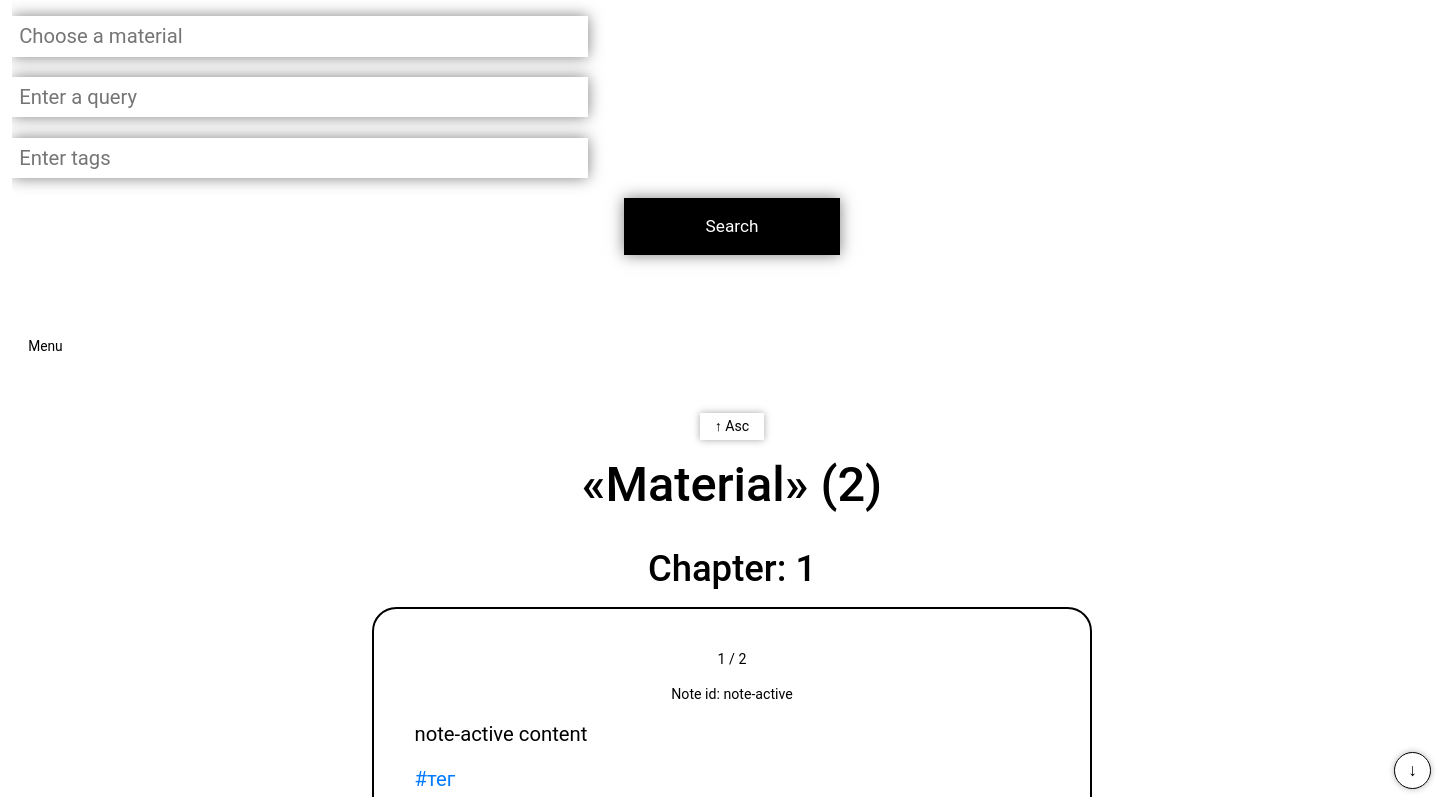
Test: SearchNotesPage query autocompletion › drops the suggestions and the error when the input is cleared
Type "al" into the field with placeholder "Enter a query" at (300,97), box left=12, top=77, right=588, bottom=117
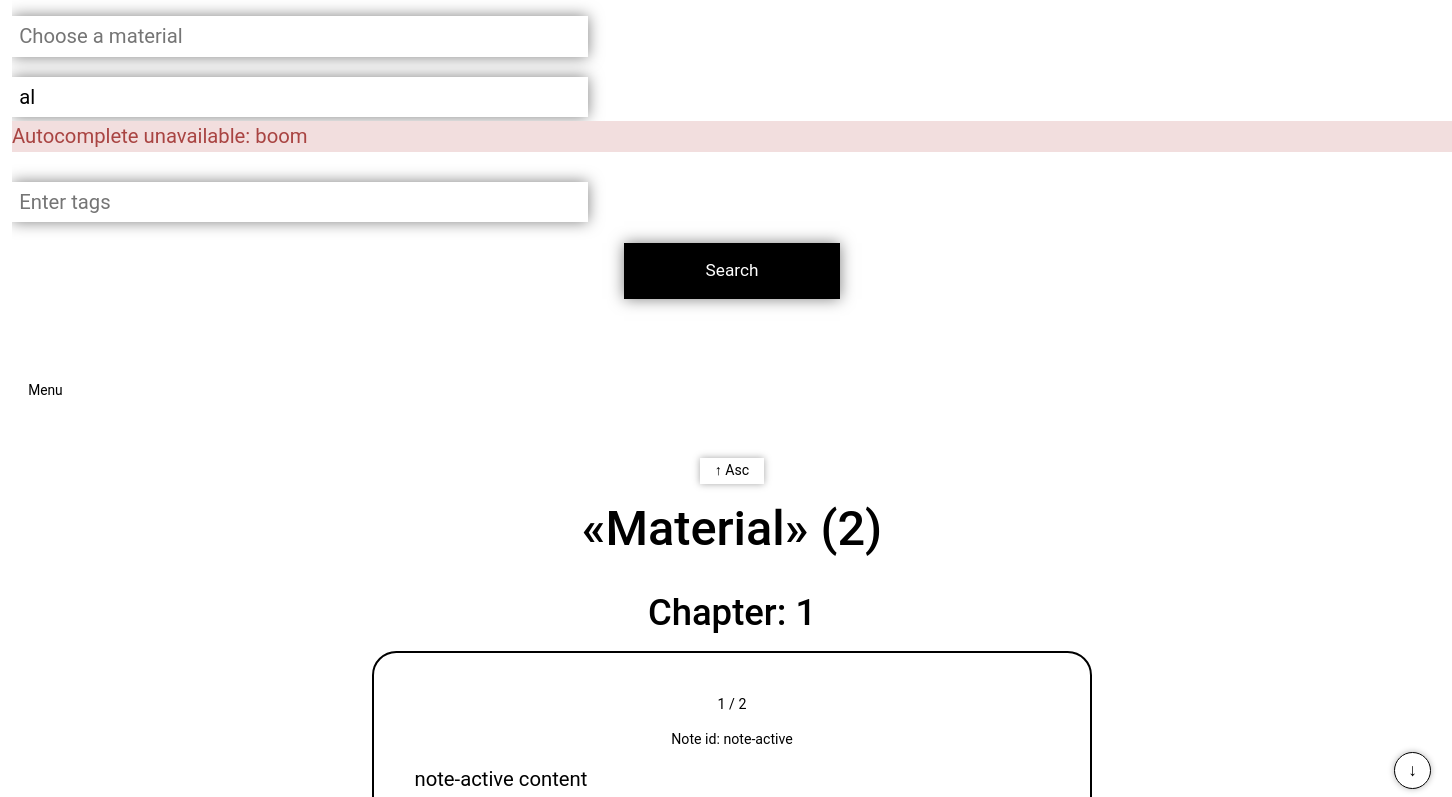
Check: the message shows "boom", box left=255, top=124, right=308, bottom=148
Clear the field with placeholder "Enter a query" at (300,97), box left=12, top=77, right=588, bottom=117
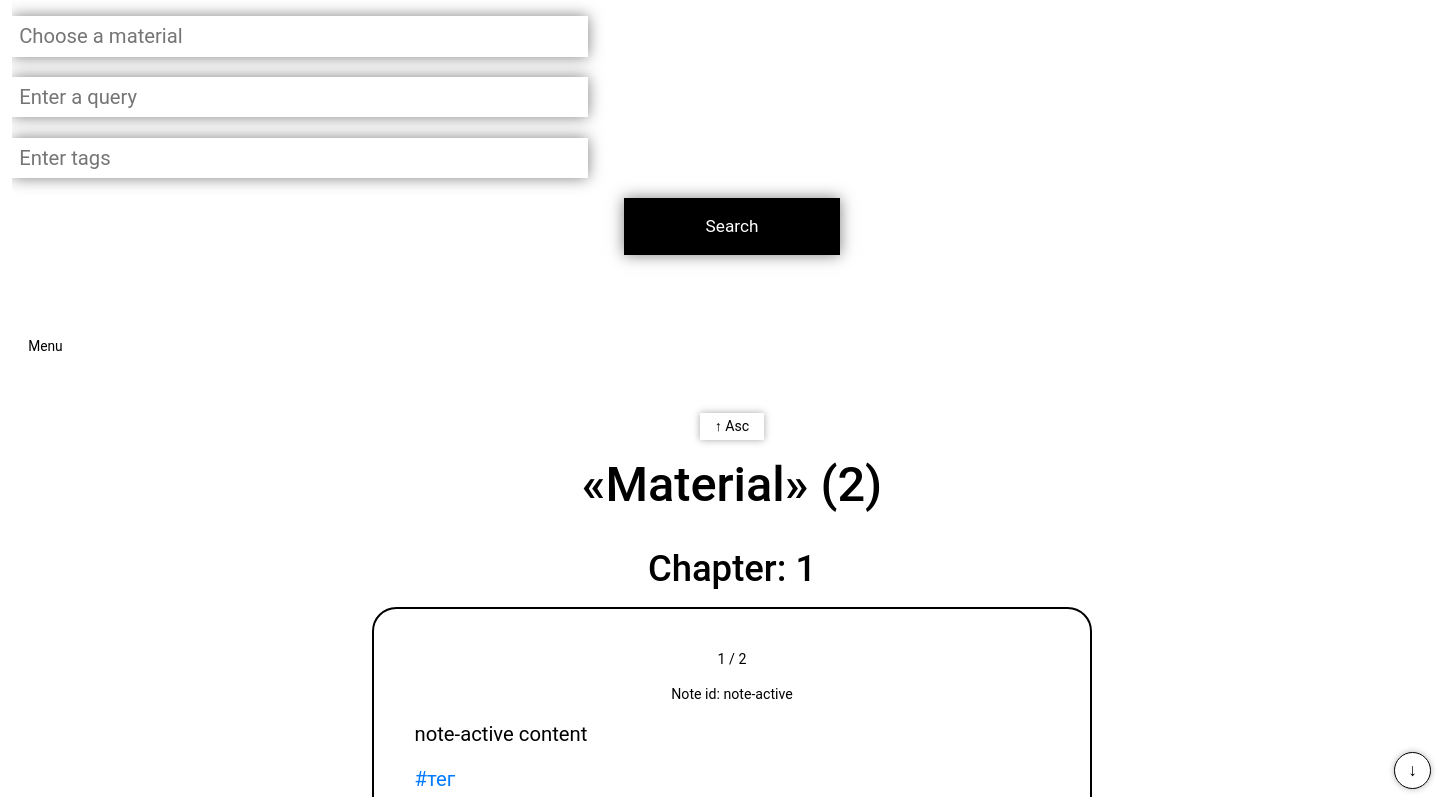
Check: the message "Autocomplete unavailable: boom" is gone
